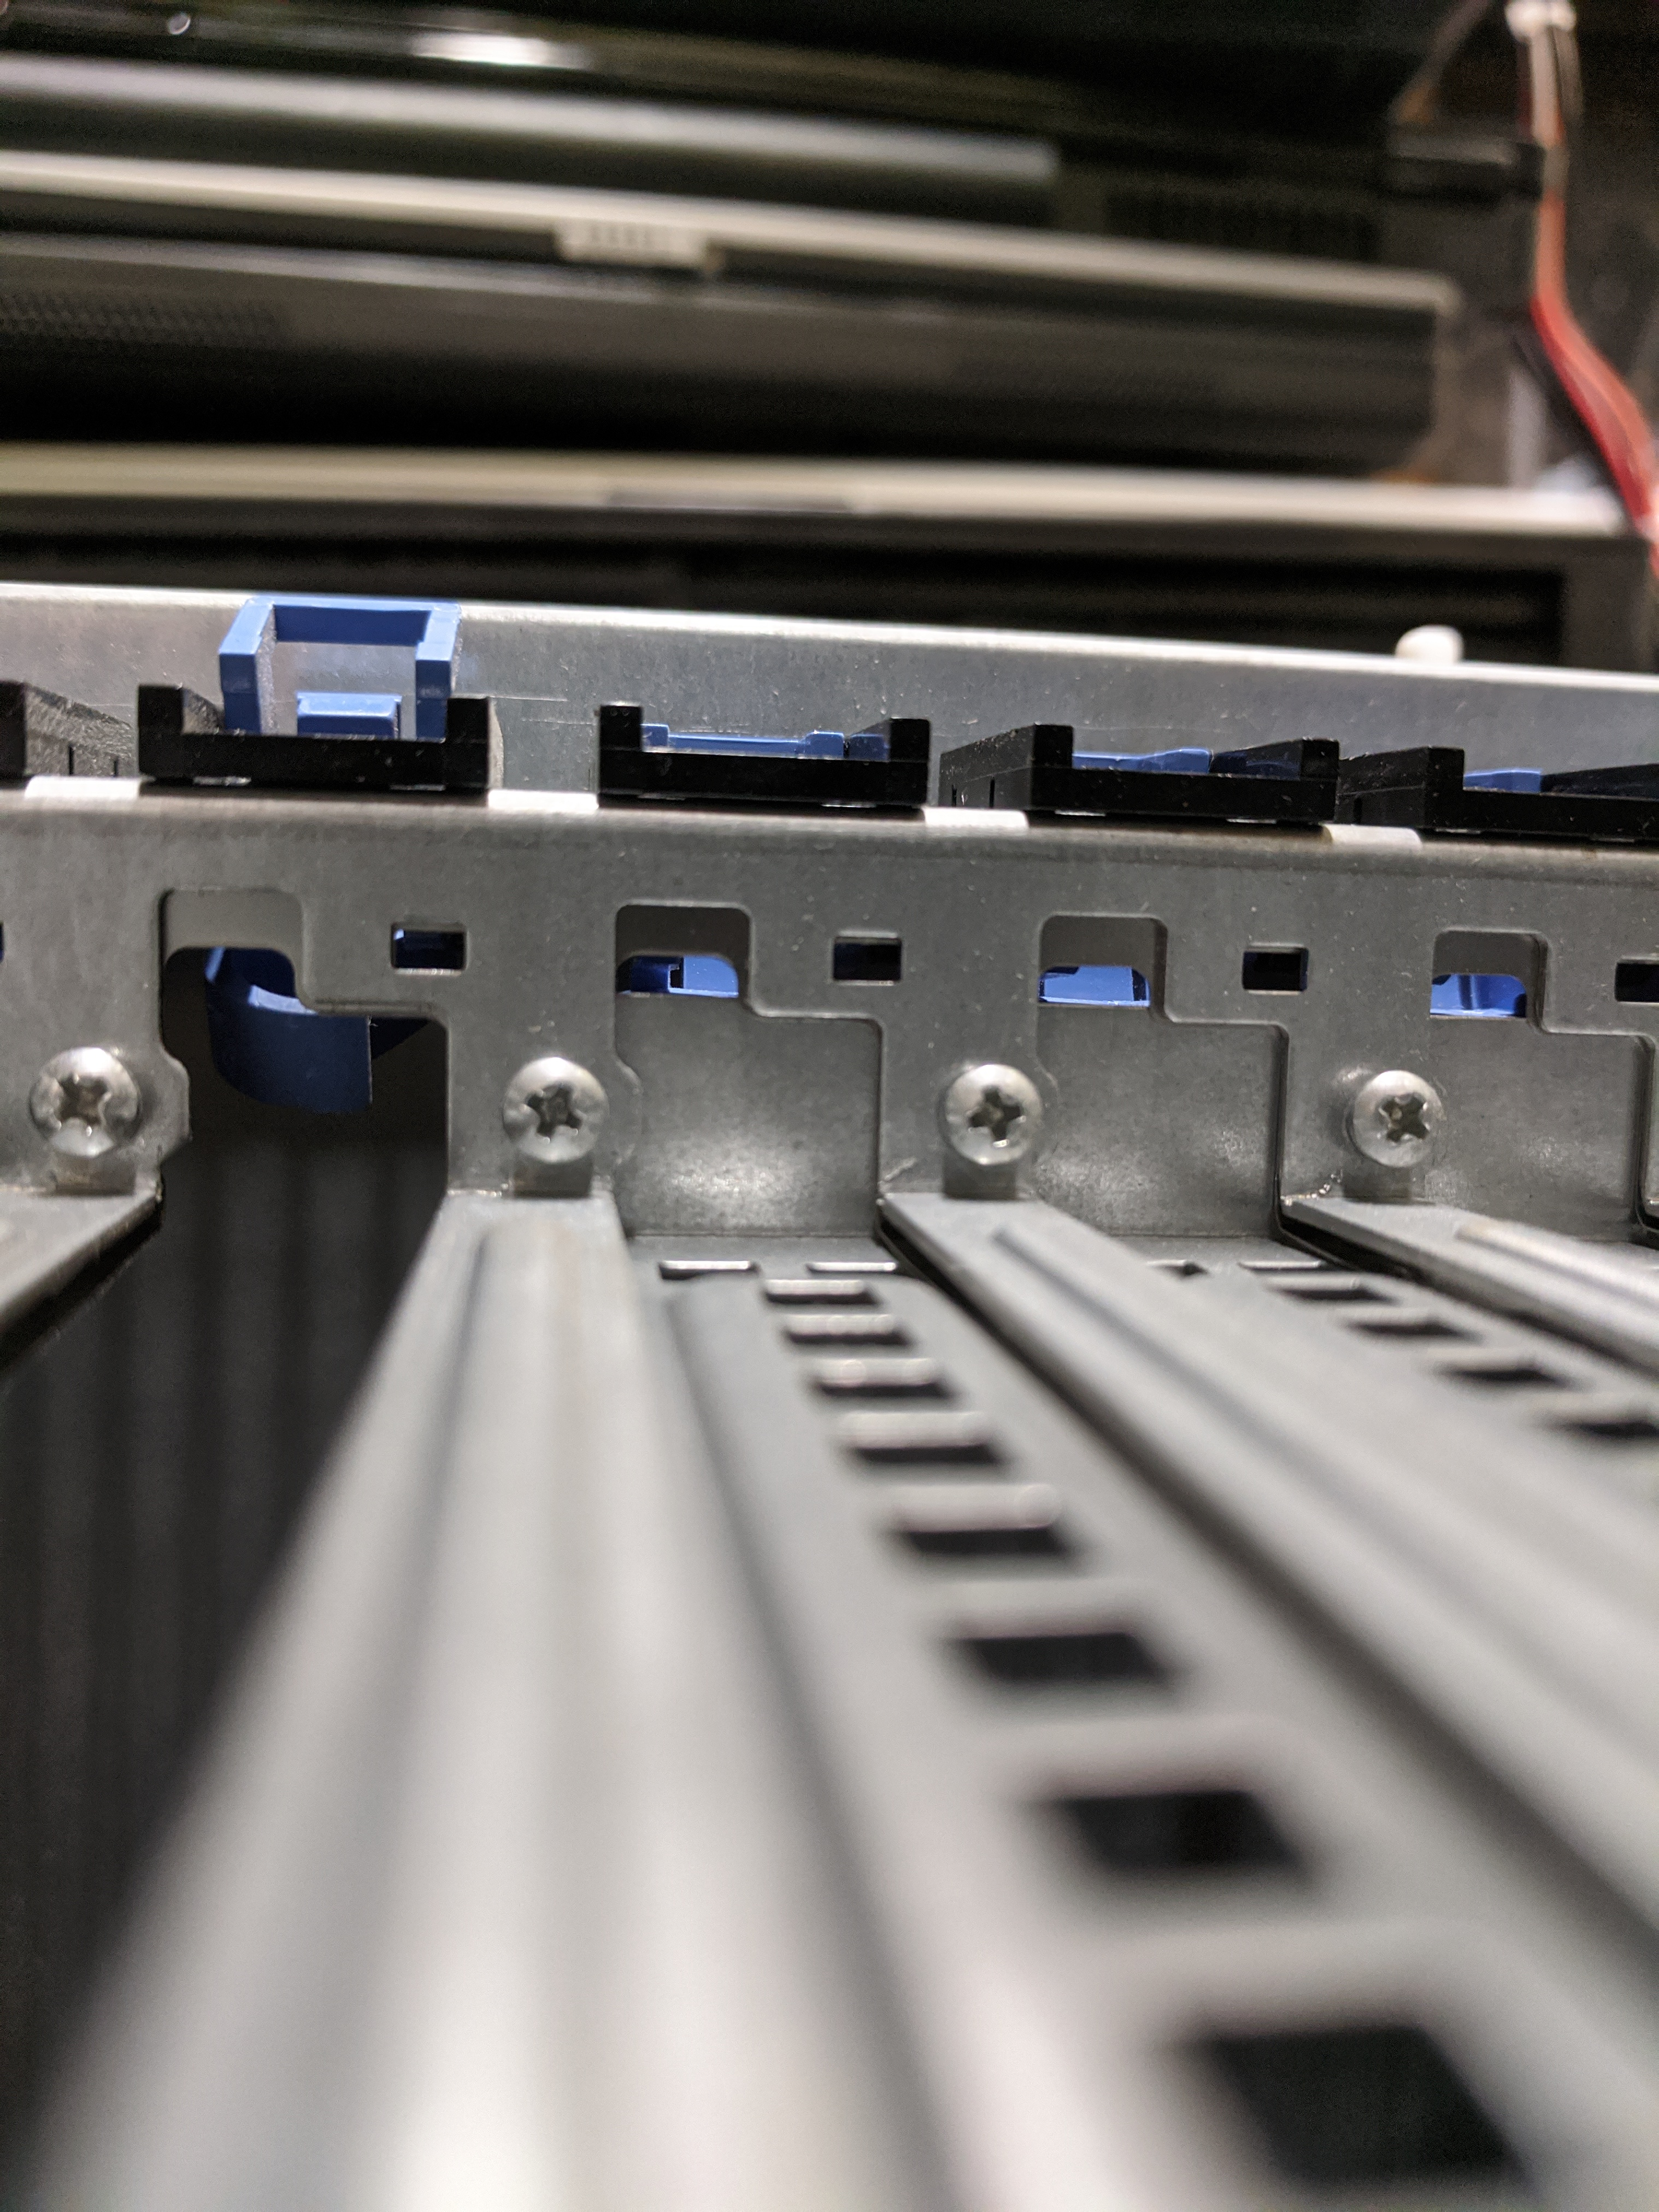cross_recessed_screw: (14, 1035, 143, 1157), (934, 1045, 1049, 1177), (488, 1047, 612, 1165), (1333, 1055, 1457, 1174)
